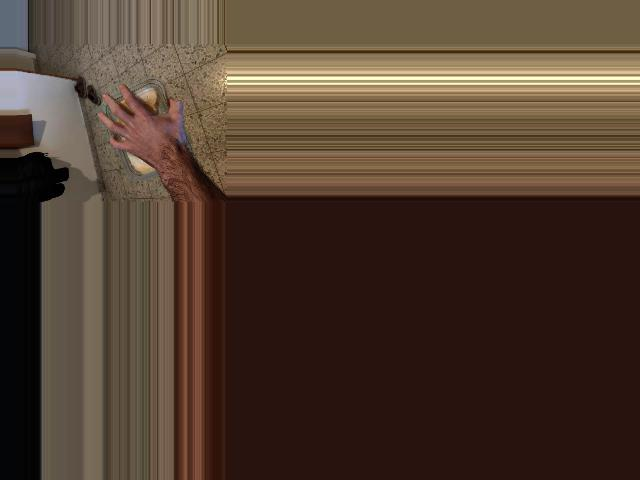cheese: (100, 82, 192, 176)
